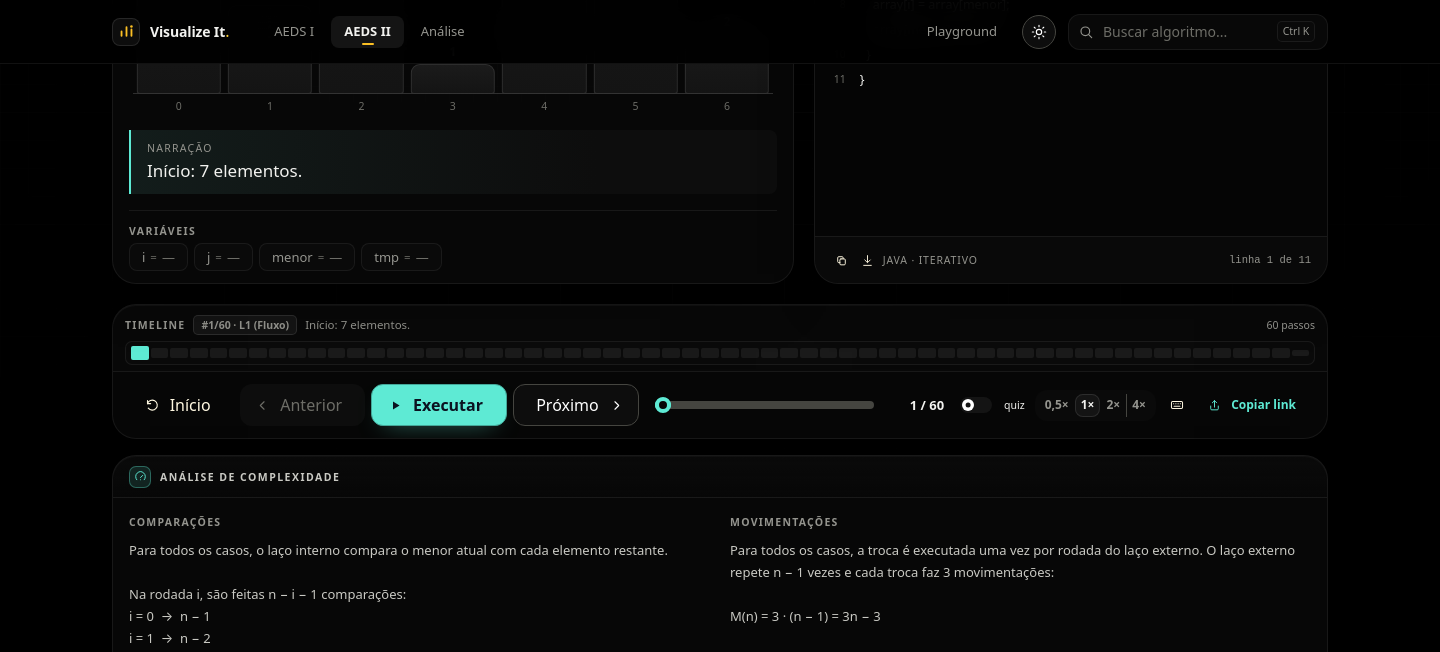
App › shows feedback after answering a quiz question
(page scrolled)
What coordinates should you click on to do the following:
click the switch labelled "quiz"
I would click on:
 (992, 405)
Its box is [960,397,1025,413].
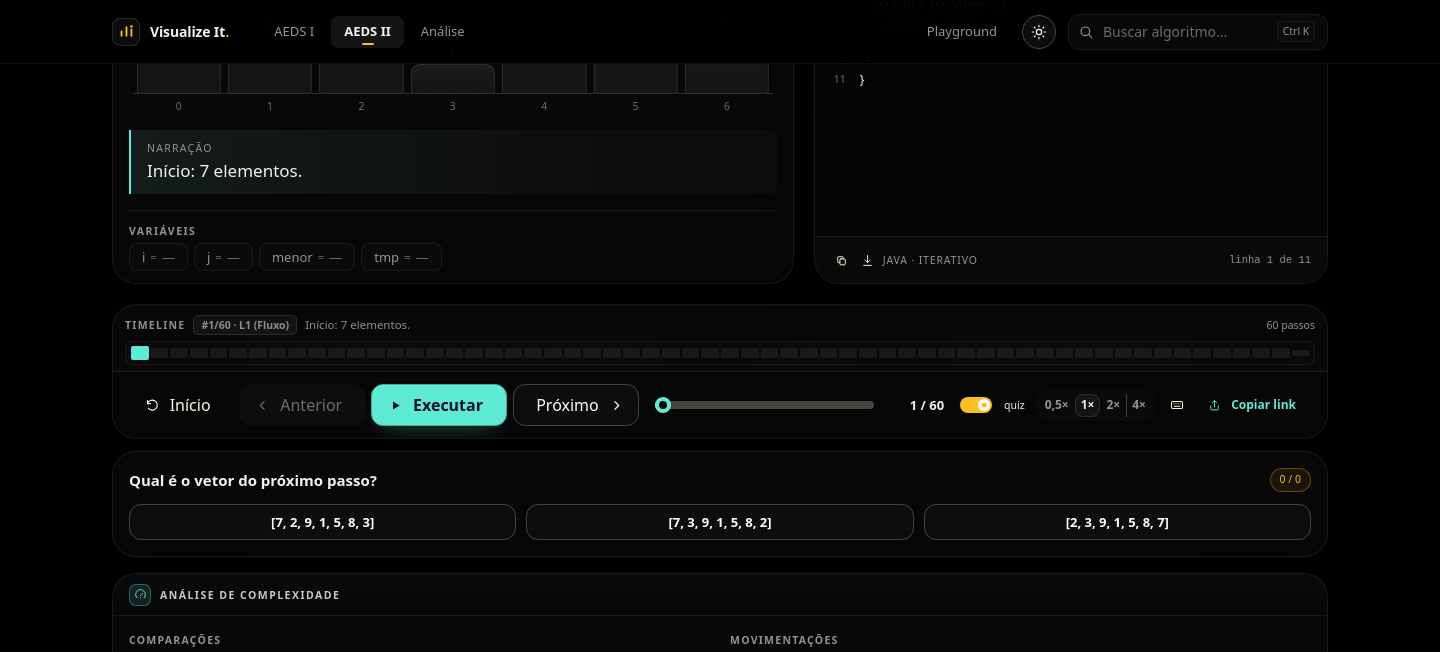
What coordinates should you click on to do the following:
click the button "[7, 2, 9, 1, 5, 8, 3]"
I would click on:
 (323, 522)
Its box is [129,504,516,540].
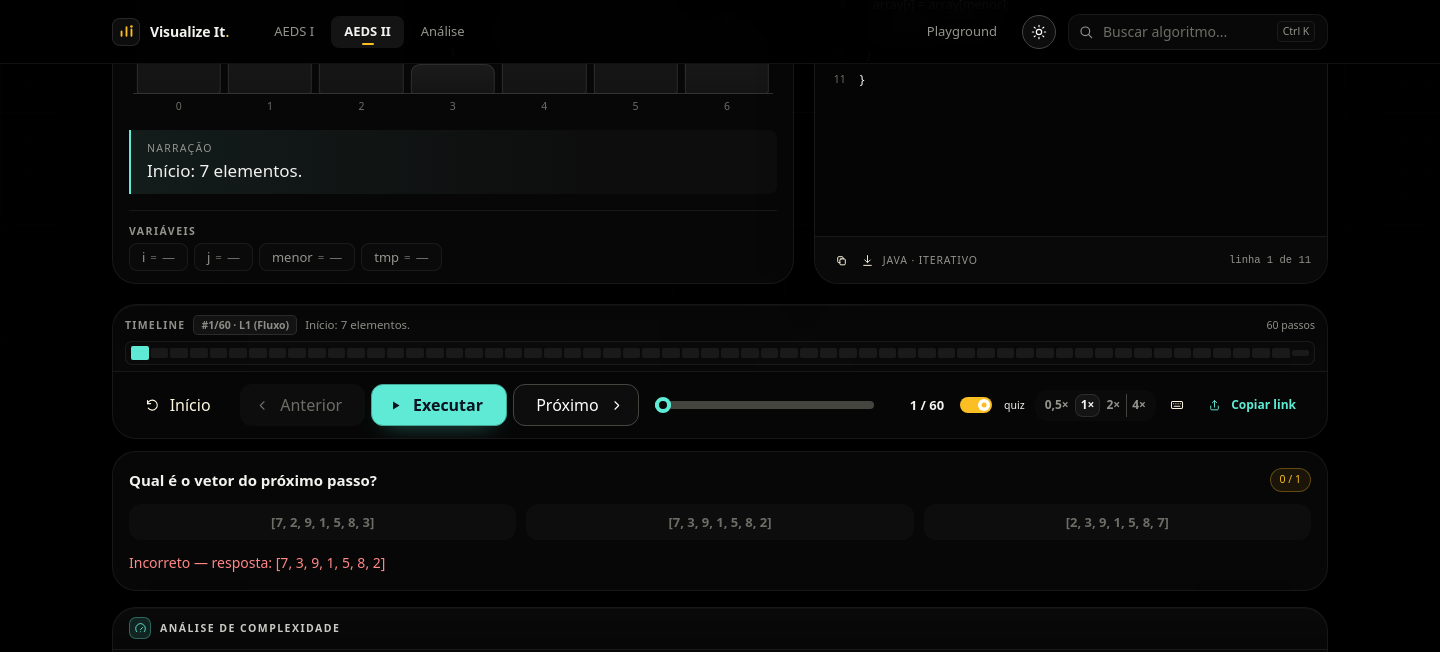
expect the text "Incorreto — resposta: [7, 3, 9, 1, 5, 8, 2]" is shown: met, box [129,553,385,572]
